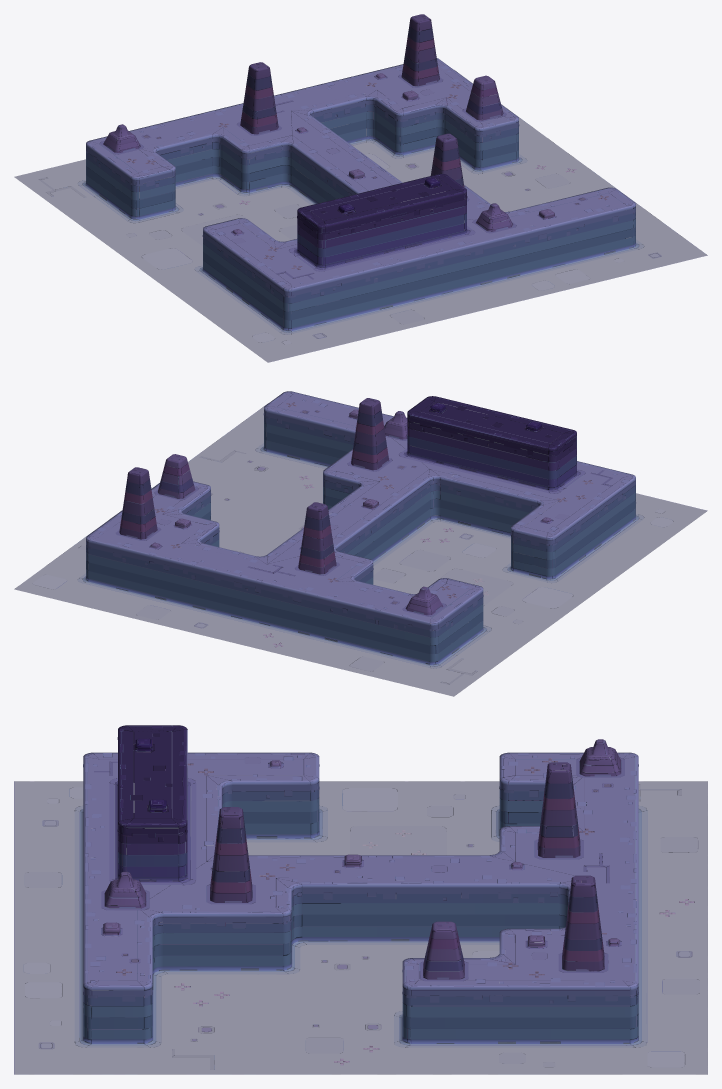
Rendered from C_cave1_05.fbx.
3 renders of one model, top to bottom at view 1: azimuth 30°, elevation 25°; view 2: azimuth 150°, elevation 25°; view 3: azimuth 270°, elevation 25°, orthographic. The views are drawn at different scales.
Parts seen in each view (by area): view 1: C_cave1_05.001; view 2: C_cave1_05.001; view 3: C_cave1_05.001.
Boxes of the visible parts, x1,y1,x2,y2 form: C_cave1_05.001: (14,14,707,362); C_cave1_05.001: (14,391,707,696); C_cave1_05.001: (14,725,707,1074).
Size of the model in its own units: 50 by 11.34 by 50.
